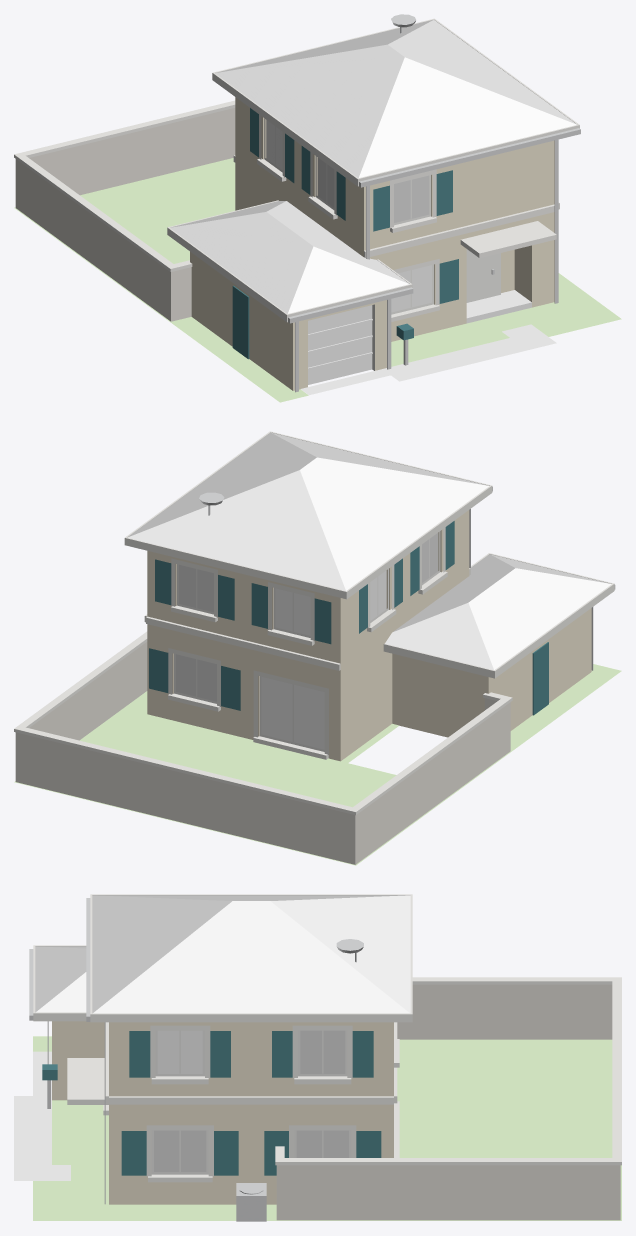
Rendered from house_tract246.glb.
The picture shows the model from 3 angles, top to bottom: view 1: azimuth 30°, elevation 25°; view 2: azimuth 150°, elevation 25°; view 3: azimuth 270°, elevation 25°; orthographic projection. The views are drawn at different scales.
Visible parts, largest first — view 1: house_tract246_Roof, house_tract246_Walls, house_tract246_Walls2, house_tract246_Lawn, house_tract246_Trim, house_tract246_Accent, house_tract246_Site, house_tract246_Details, house_tract246_Doors, house_tract246_Frames, house_tract246_WindowsLit, house_tract246_Glass; view 2: house_tract246_Roof, house_tract246_Walls, house_tract246_Walls2, house_tract246_Trim, house_tract246_Lawn, house_tract246_Accent, house_tract246_Glass, house_tract246_WindowsLit, house_tract246_Frames, house_tract246_Details; view 3: house_tract246_Roof, house_tract246_Lawn, house_tract246_Walls2, house_tract246_Walls, house_tract246_Trim, house_tract246_Accent, house_tract246_WindowsLit, house_tract246_Site, house_tract246_Details, house_tract246_Glass, house_tract246_Frames.
Boxes of the visible parts, <box> form: house_tract246_Roof: <box>170,20,576,313</box>; house_tract246_Walls: <box>190,97,554,390</box>; house_tract246_Walls2: <box>15,108,235,321</box>; house_tract246_Lawn: <box>14,158,621,402</box>; house_tract246_Trim: <box>14,18,579,370</box>; house_tract246_Accent: <box>232,108,458,359</box>; house_tract246_Site: <box>301,290,556,395</box>; house_tract246_Details: <box>288,14,580,392</box>; house_tract246_Doors: <box>308,305,372,384</box>; house_tract246_Frames: <box>264,118,500,314</box>; house_tract246_WindowsLit: <box>317,157,429,222</box>; house_tract246_Glass: <box>266,120,431,312</box>; house_tract246_Roof: <box>127,432,611,669</box>; house_tract246_Walls: <box>147,510,591,761</box>; house_tract246_Walls2: <box>15,642,510,864</box>; house_tract246_Trim: <box>14,431,614,815</box>; house_tract246_Lawn: <box>14,664,621,865</box>; house_tract246_Accent: <box>149,521,548,715</box>; house_tract246_Glass: <box>261,570,386,749</box>; house_tract246_WindowsLit: <box>176,533,438,701</box>; house_tract246_Frames: <box>174,531,440,751</box>; house_tract246_Details: <box>199,486,615,670</box>; house_tract246_Roof: <box>35,895,410,1013</box>; house_tract246_Lawn: <box>33,1036,621,1220</box>; house_tract246_Walls2: <box>276,984,620,1220</box>; house_tract246_Walls: <box>52,1021,393,1204</box>; house_tract246_Trim: <box>33,894,621,1182</box>; house_tract246_Accent: <box>42,1031,381,1175</box>; house_tract246_WindowsLit: <box>154,1030,348,1171</box>; house_tract246_Site: <box>14,1051,70,1180</box>; house_tract246_Details: <box>29,898,363,1221</box>; house_tract246_Glass: <box>157,1030,202,1073</box>; house_tract246_Frames: <box>151,1030,351,1174</box>.
Bounding box in the file's own units: 46.11 × 29.22 × 64.
